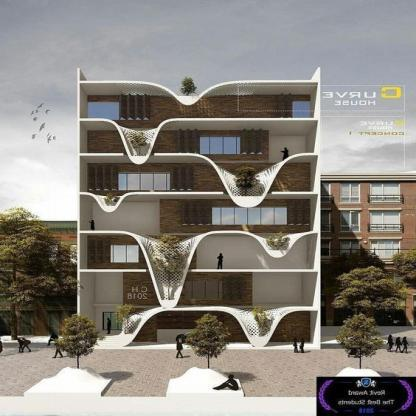Balcony: (196, 258, 313, 269), (84, 222, 160, 233), (269, 149, 312, 160)
Building Outline: (77, 67, 321, 350)
Door: (104, 313, 123, 331)
Facade: (77, 67, 321, 351)
Floor Slab: (80, 191, 318, 194), (80, 231, 318, 234), (80, 269, 318, 272), (80, 118, 317, 121), (80, 153, 317, 156), (124, 307, 319, 310)
Window: (182, 207, 309, 225), (88, 173, 192, 191), (199, 137, 262, 155), (89, 103, 148, 120), (89, 245, 138, 263), (186, 281, 222, 299), (292, 101, 311, 119)
